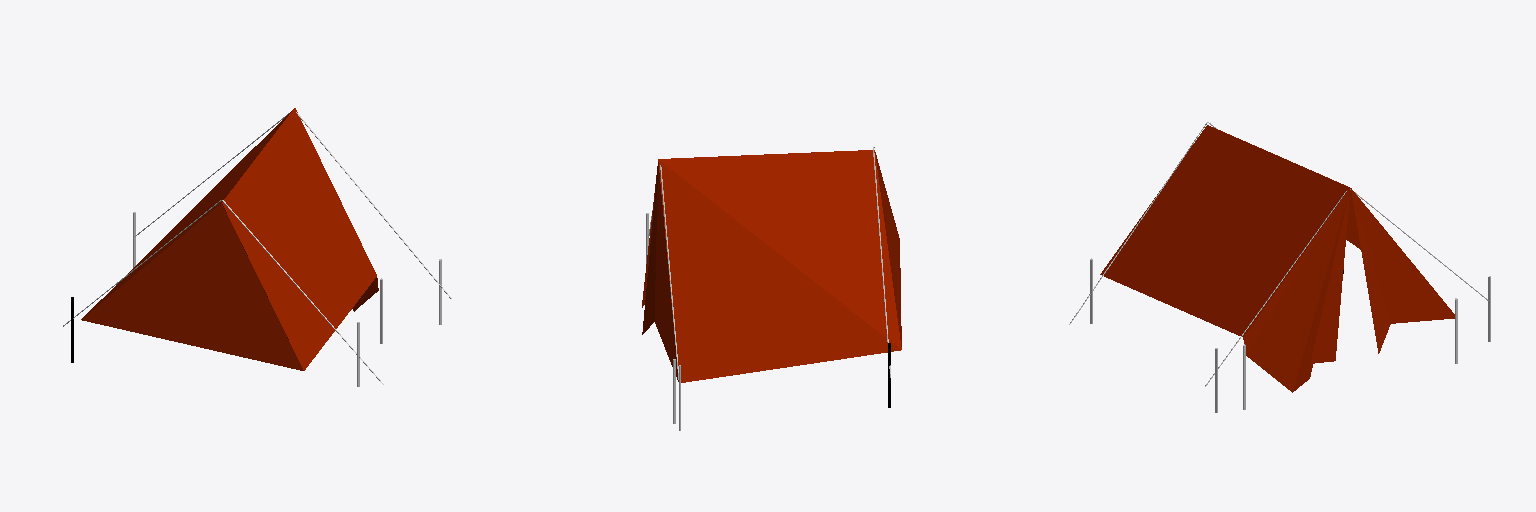
The model's file is tent.obj.
3 renders of one model, left to right at view 1: azimuth 30°, elevation 25°; view 2: azimuth 150°, elevation 25°; view 3: azimuth 270°, elevation 25°, orthographic.
Visible parts, largest first — view 1: House_Untitled.064; view 2: House_Untitled.064; view 3: House_Untitled.064.
Boxes of the visible parts, x1=… form: House_Untitled.064: x1=81, y1=108, x2=378, y2=370; House_Untitled.064: x1=642, y1=150, x2=901, y2=382; House_Untitled.064: x1=1100, y1=125, x2=1454, y2=392.
Size of the model in its own units: 10.31 by 6.51 by 11.88.